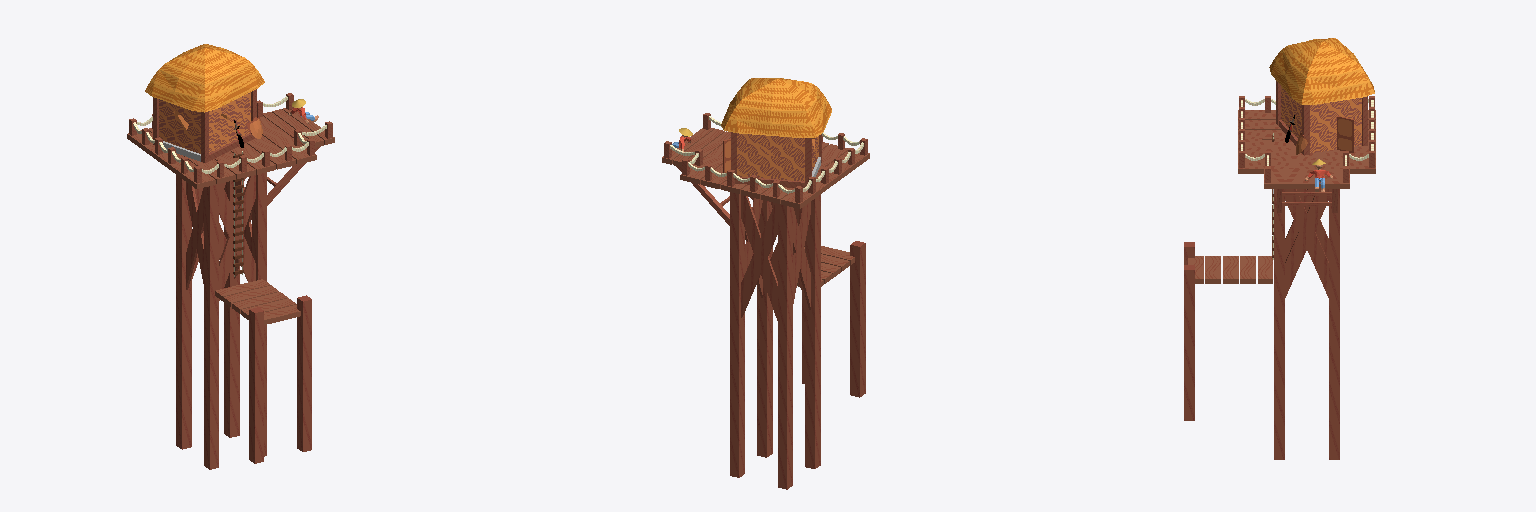
The picture shows the model from 3 angles: view 1: azimuth 30°, elevation 25°; view 2: azimuth 150°, elevation 25°; view 3: azimuth 270°, elevation 25°; orthographic projection.
Parts seen in each view (by area): view 1: Hut.Roof_Cube.042, Deck_Cube.012, Hut_Cube.005, Leg.009_Cube.056, Leg.011_Cube.002, Leg.010_Cube.001, Leg.006_Cube.053, Dock_Cube.013, Leg.008_Cube.055, X_Support.000_Cube.009, Leg.003_Cube.052, Leg.002_Cube.051 (+6 smaller); view 2: Hut.Roof_Cube.042, Hut_Cube.005, Deck_Cube.012, X_Support.001_Cube.006, Leg.011_Cube.002, Leg.006_Cube.053, Leg.007_Cube.054, Leg.009_Cube.056, Leg.008_Cube.055, Leg.002_Cube.051, Leg.001_Cube.050, Leg.003_Cube.052 (+5 smaller); view 3: Hut.Roof_Cube.042, Deck_Cube.012, Hut_Cube.005, X_Support.002_Cube.010, Dock_Cube.013, Leg.010_Cube.001, Leg.008_Cube.055, Leg.007_Cube.054, Deck.001_Cube.024, Leg_Cube, Leg.001_Cube.050, X_Support.003_Cube.011 (+1 smaller).
Part boxes in pixels (x1,y1,x2,y2): Hut.Roof_Cube.042: (145,44,264,112); Deck_Cube.012: (127,116,316,188); Hut_Cube.005: (159,92,250,153); Leg.009_Cube.056: (176,295,191,449); Leg.011_Cube.002: (249,307,263,463); Leg.010_Cube.001: (297,295,311,451); Leg.006_Cube.053: (204,316,218,469); Dock_Cube.013: (215,279,300,324); Leg.008_Cube.055: (224,284,239,437); X_Support.000_Cube.009: (219,175,255,300); Leg.003_Cube.052: (204,184,218,318); Leg.002_Cube.051: (176,175,191,298); Hut.Roof_Cube.042: (721,78,831,137); Hut_Cube.005: (737,133,818,180); Deck_Cube.012: (680,138,869,208); X_Support.001_Cube.006: (741,195,777,320); Leg.011_Cube.002: (850,241,865,397); Leg.006_Cube.053: (805,315,820,468); Leg.007_Cube.054: (757,304,772,457); Leg.009_Cube.056: (778,335,792,489); Leg.008_Cube.055: (730,324,744,477); Leg.002_Cube.051: (778,204,792,338); Leg.001_Cube.050: (730,192,744,326); Leg.003_Cube.052: (805,195,820,318); Hut.Roof_Cube.042: (1269,38,1374,104); Deck_Cube.012: (1238,110,1375,173); Hut_Cube.005: (1281,86,1361,152); X_Support.002_Cube.010: (1285,189,1328,297); Dock_Cube.013: (1188,256,1272,283); Leg.010_Cube.001: (1184,265,1194,420); Leg.008_Cube.055: (1329,309,1339,459); Leg.007_Cube.054: (1274,309,1284,459); Deck.001_Cube.024: (1264,169,1349,188); Leg_Cube: (1274,189,1284,308); Leg.001_Cube.050: (1329,189,1339,308); X_Support.003_Cube.011: (1285,189,1328,261).
Size of the model in its own units: 6.72 by 15.9 by 6.95.
9 materials, 8 textured.